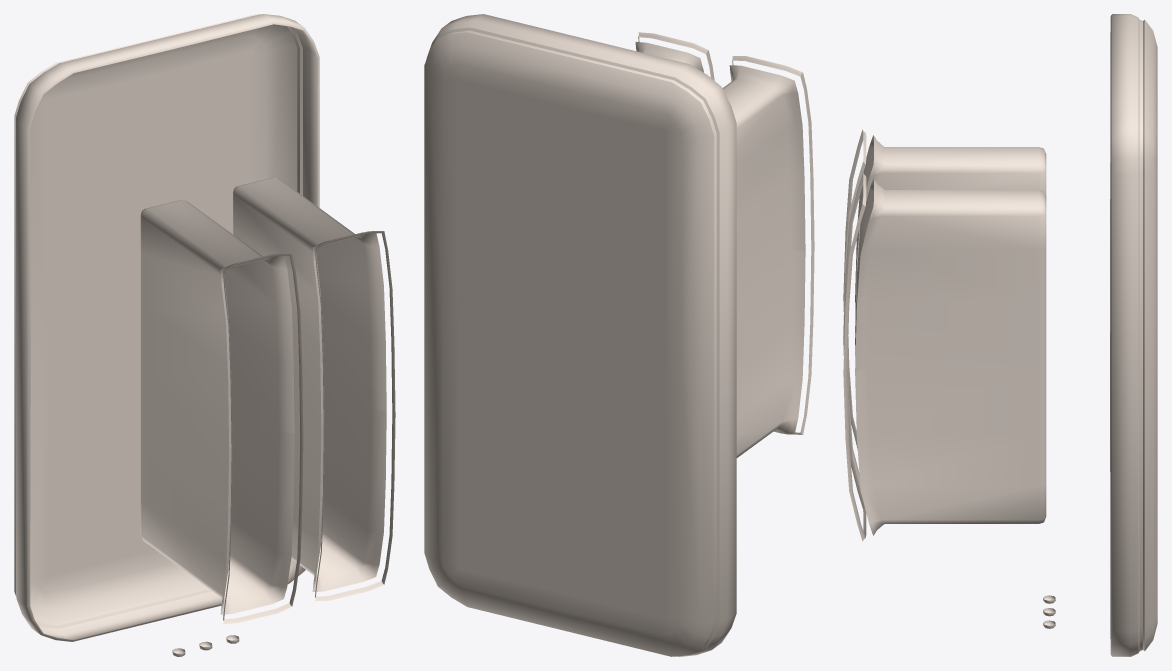
The model's file is MeshToaster_15_0_GeomSubset_2.obj.
3 views of the same model, side by side, from view 1: azimuth 30°, elevation 25°; view 2: azimuth 150°, elevation 25°; view 3: azimuth 270°, elevation 25° (orthographic). The views are drawn at different scales.
Visible parts, largest first — view 1: MeshToaster_15_0_GeomSubset_2; view 2: MeshToaster_15_0_GeomSubset_2; view 3: MeshToaster_15_0_GeomSubset_2.
Part boxes in pixels (left/top/right/bottom): MeshToaster_15_0_GeomSubset_2: left=14, top=14, right=395, bottom=656; MeshToaster_15_0_GeomSubset_2: left=424, top=14, right=814, bottom=656; MeshToaster_15_0_GeomSubset_2: left=843, top=14, right=1157, bottom=656.
Bounding box in the file's own units: 0.2285 × 0.4308 × 0.2226.
